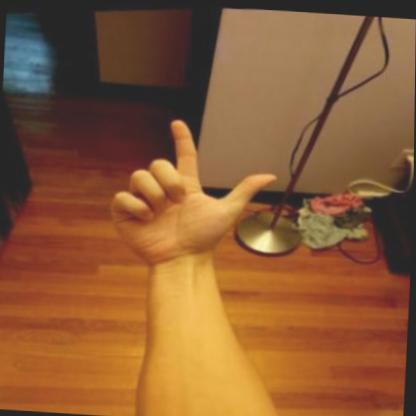L: (96, 101, 292, 279)
